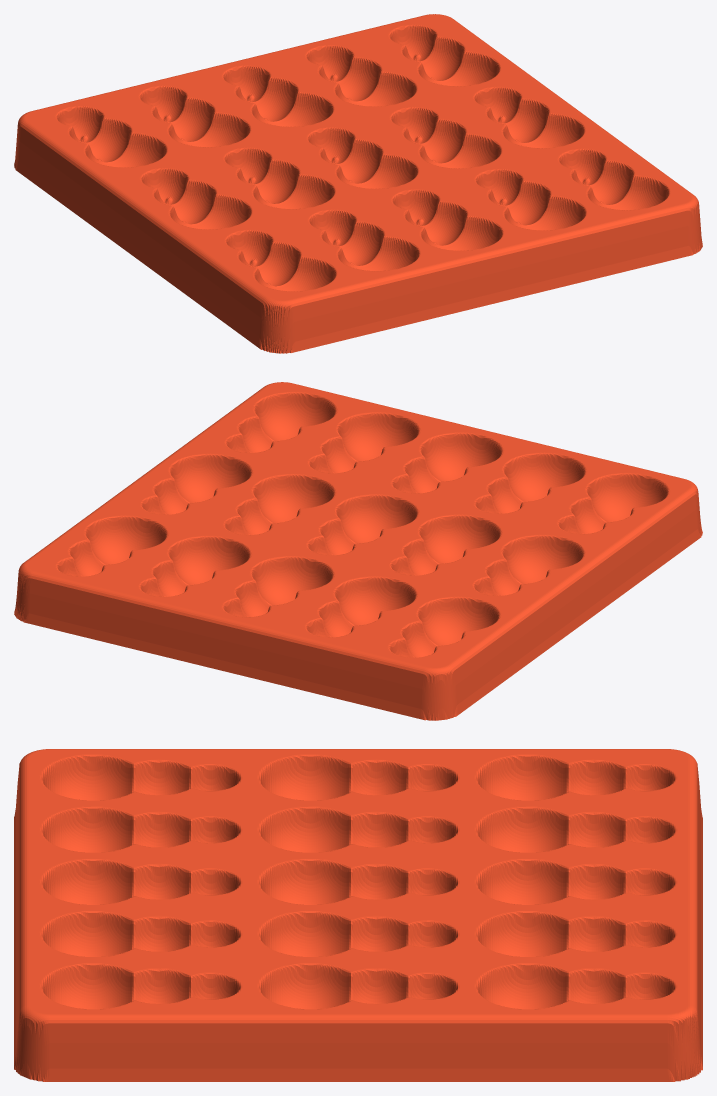
The model's file is mold.glb.
3 renders of one model, top to bottom at view 1: azimuth 30°, elevation 25°; view 2: azimuth 150°, elevation 25°; view 3: azimuth 270°, elevation 25°, orthographic. The views are drawn at different scales.
Parts seen in each view (by area): view 1: geometry_0; view 2: geometry_0; view 3: geometry_0.
Boxes of the visible parts, x1=… form: geometry_0: x1=14, y1=14, x2=702, y2=353; geometry_0: x1=14, y1=382, x2=702, y2=720; geometry_0: x1=14, y1=749, x2=702, y2=1081.
Bounding box in the file's own units: 0.1678 × 0.0175 × 0.1767.
